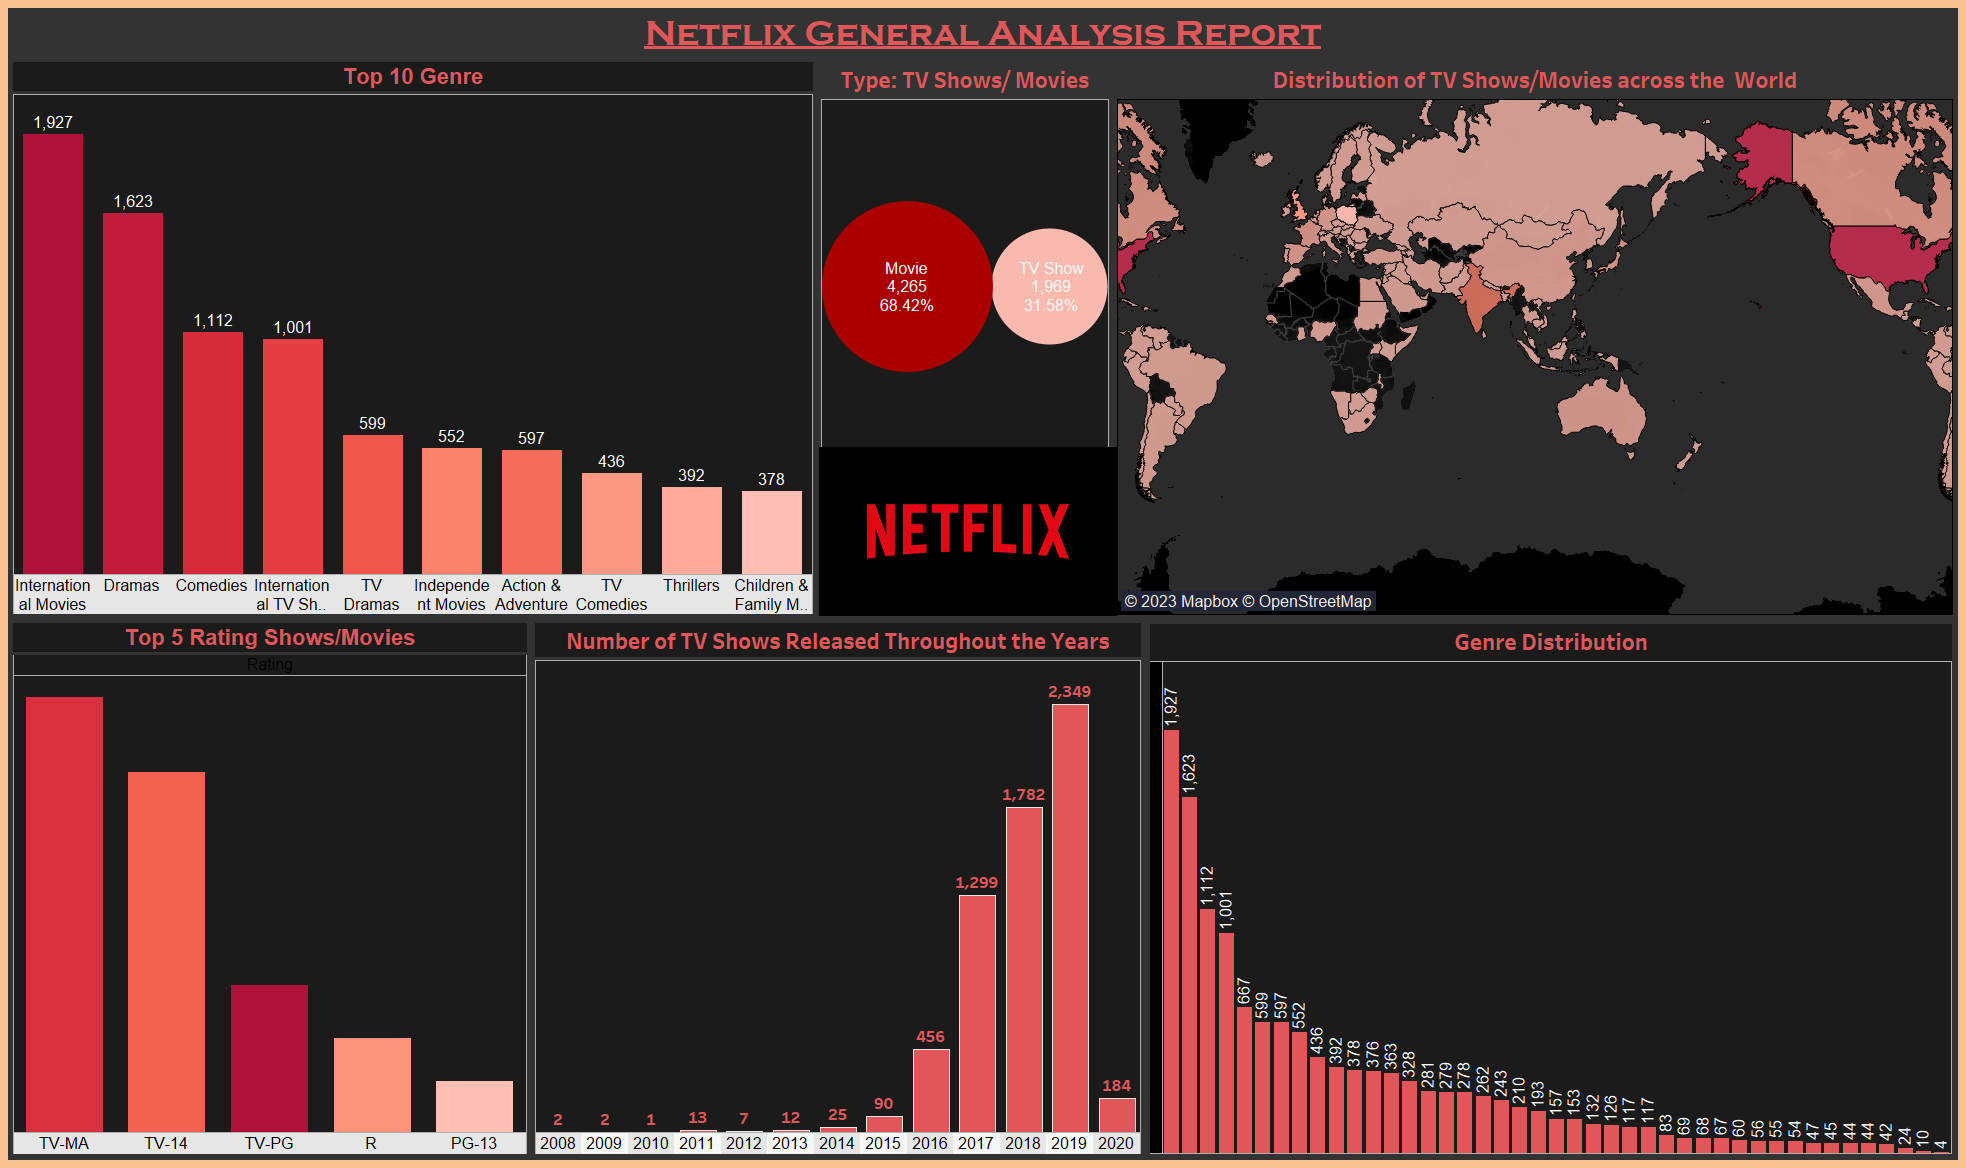

Layout of this report page (visuals, bound fields, positions):
{"tool":"tableau","page":{"name":"Dashboard 1","canvas":[1966,1168],"ordinal":0},"visuals":[{"type":"title","box":[9,9,1948,49]},{"type":"worksheet","title":"Sheet 6","mark":"Automatic","rows":["show_id"],"cols":["listed_in"],"box":[9,58,808,561]},{"type":"worksheet","title":"Sheet 4","mark":"Circle","box":[817,58,295.9,561]},{"type":"worksheet","title":"Sheet 1","mark":"Automatic","box":[1112.9,58,844.1,561]},{"type":"image","param":"C:/Users/Hp/Downloads/download.png","box":[819,447,298,169]},{"type":"worksheet","title":"Sheet 5","mark":"Automatic","rows":["show_id"],"cols":["rating"],"box":[9,619,522.4,540]},{"type":"worksheet","title":"Sheet 2","mark":"Bar","rows":["netflix!titles_6729D940DC414DB08B484549CCBF7B8E"],"cols":["date_added"],"box":[531.4,619,613.6,540]},{"type":"worksheet","title":"Sheet 3","mark":"Automatic","rows":["netflix!titles_6729D940DC414DB08B484549CCBF7B8E"],"cols":["listed_in"],"box":[1145,619,812,540]}]}

Visuals, with their boxes in screenshot pixels (x1, y1, x2, y2), scaled from the page's 1966x1168 canvas onto the 1966x1168 screenshot:
title: [left=9, top=9, right=1957, bottom=58]
"Sheet 6" worksheet: [left=9, top=58, right=817, bottom=619]
"Sheet 4" worksheet (Circle marks): [left=817, top=58, right=1113, bottom=619]
"Sheet 1" worksheet: [left=1113, top=58, right=1957, bottom=619]
image: [left=819, top=447, right=1117, bottom=616]
"Sheet 5" worksheet: [left=9, top=619, right=531, bottom=1159]
"Sheet 2" worksheet (Bar marks): [left=531, top=619, right=1145, bottom=1159]
"Sheet 3" worksheet: [left=1145, top=619, right=1957, bottom=1159]
